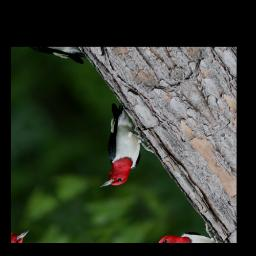Woodpecker: (60, 98, 166, 196)
